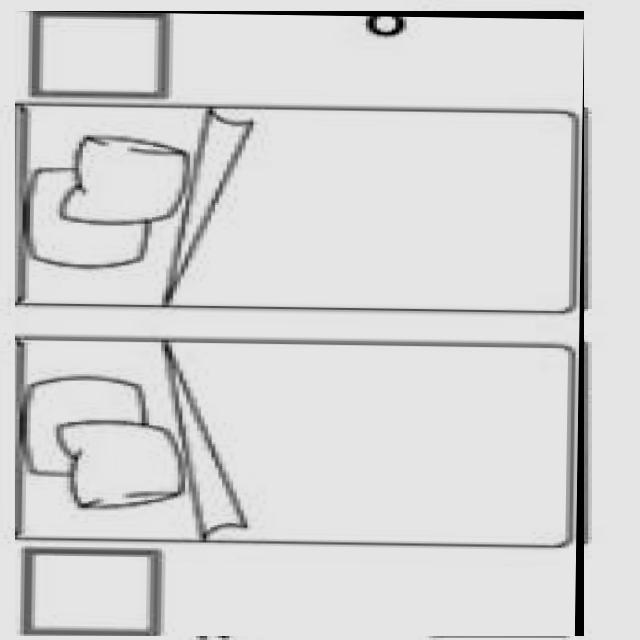bed: (15, 11, 584, 636)
